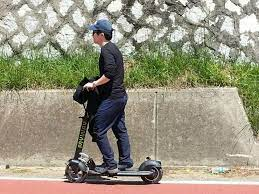scooter: (64, 76, 162, 183)
